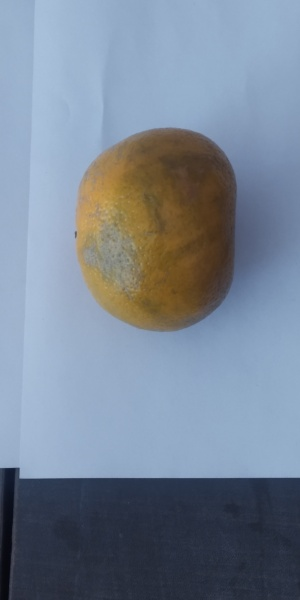BAD: (75, 126, 240, 331)
